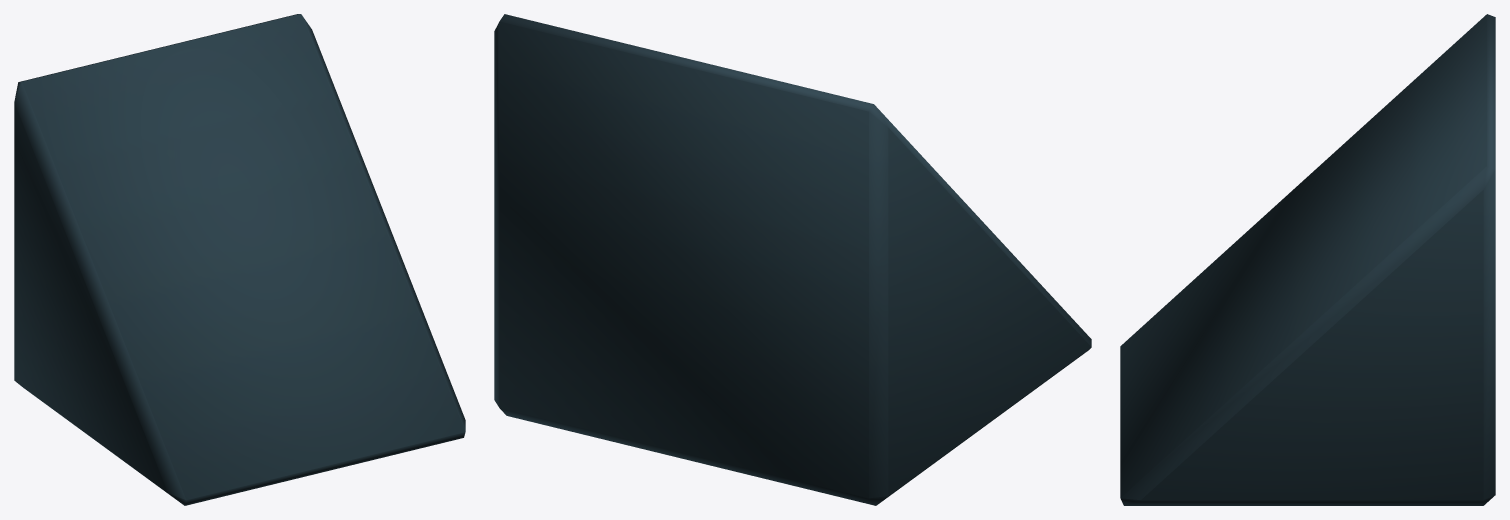
File: ramp_straight_hue_5.fbx
The picture shows the model from 3 angles, left to right: view 1: azimuth 30°, elevation 25°; view 2: azimuth 150°, elevation 25°; view 3: azimuth 270°, elevation 25°; orthographic projection. The views are drawn at different scales.
Parts seen in each view (by area): view 1: ramp_straight_hue_5; view 2: ramp_straight_hue_5; view 3: ramp_straight_hue_5.
Part boxes in pixels (x1,y1,x2,y2): ramp_straight_hue_5: [14, 14, 465, 505]; ramp_straight_hue_5: [494, 14, 1091, 505]; ramp_straight_hue_5: [1120, 14, 1495, 505].
Bounding box in the file's own units: 100 × 97.79 × 97.79.
